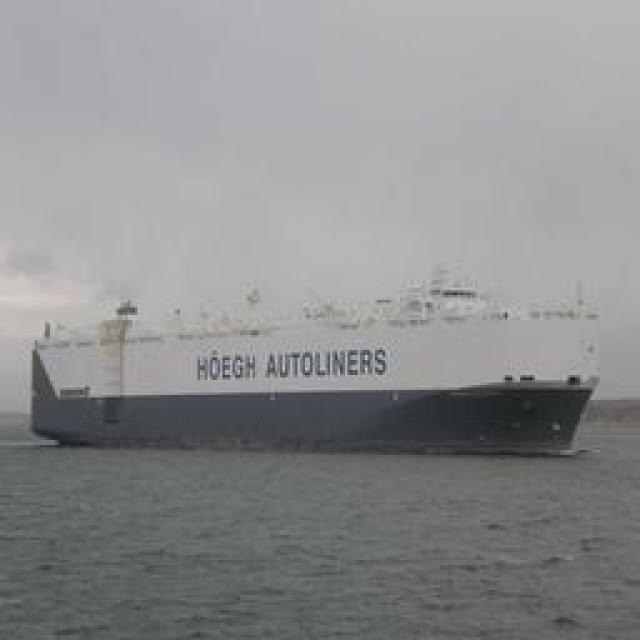Ship: (21, 275, 621, 460)
